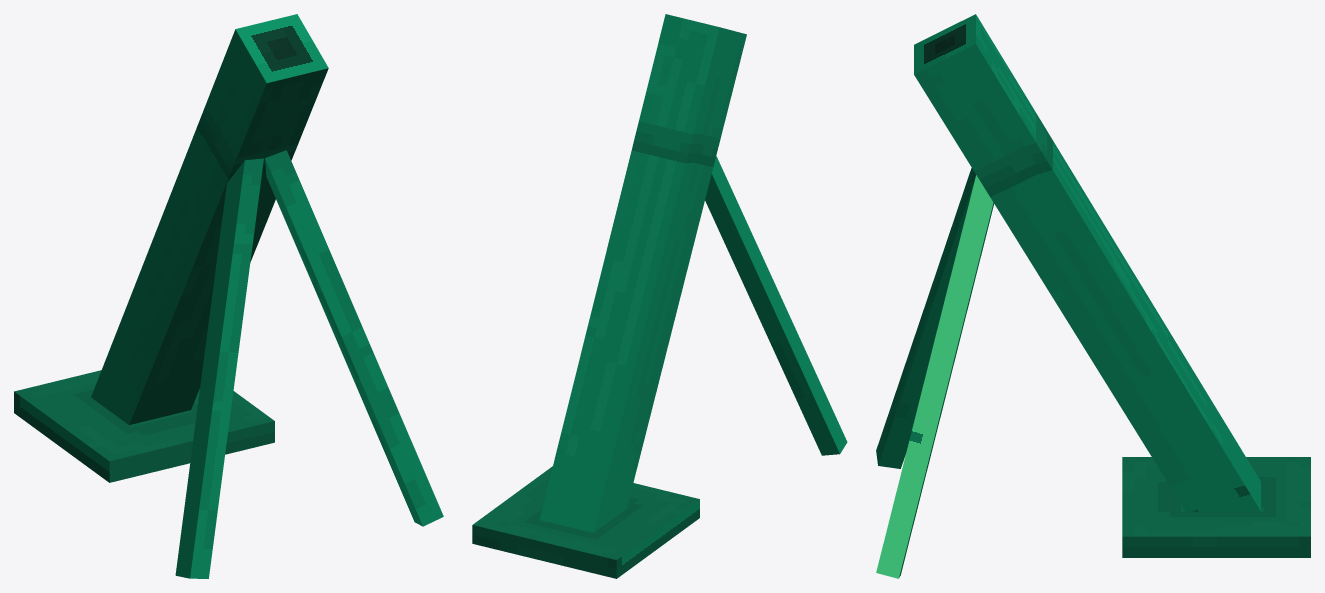
File: mortar_tube.gltf
3 renders of one model, left to right at view 1: azimuth 30°, elevation 25°; view 2: azimuth 150°, elevation 25°; view 3: azimuth 270°, elevation 25°, orthographic. The views are drawn at different scales.
Visible parts, largest first — view 1: tube, leg_right, base, leg_left; view 2: tube, base, leg_right; view 3: tube, base, leg_left, leg_right.
Boxes of the visible parts, left/top/right/bottom form: tube: left=91, top=14, right=328, bottom=424; leg_right: left=175, top=158, right=263, bottom=578; base: left=14, top=370, right=274, bottom=482; leg_left: left=265, top=150, right=443, bottom=526; tube: left=539, top=14, right=746, bottom=532; base: left=472, top=466, right=699, bottom=578; leg_right: left=705, top=156, right=847, bottom=455; tube: left=914, top=14, right=1260, bottom=511; base: left=1122, top=457, right=1310, bottom=557; leg_left: left=876, top=175, right=993, bottom=578; leg_right: left=876, top=168, right=975, bottom=468.
Size of the model in its own units: 0.7861 by 1.44 by 1.15.
1 material, 1 textured.
